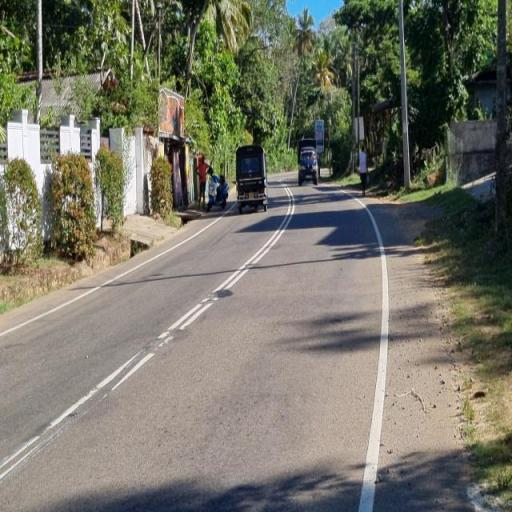double_white_line: (158, 186, 296, 346)
